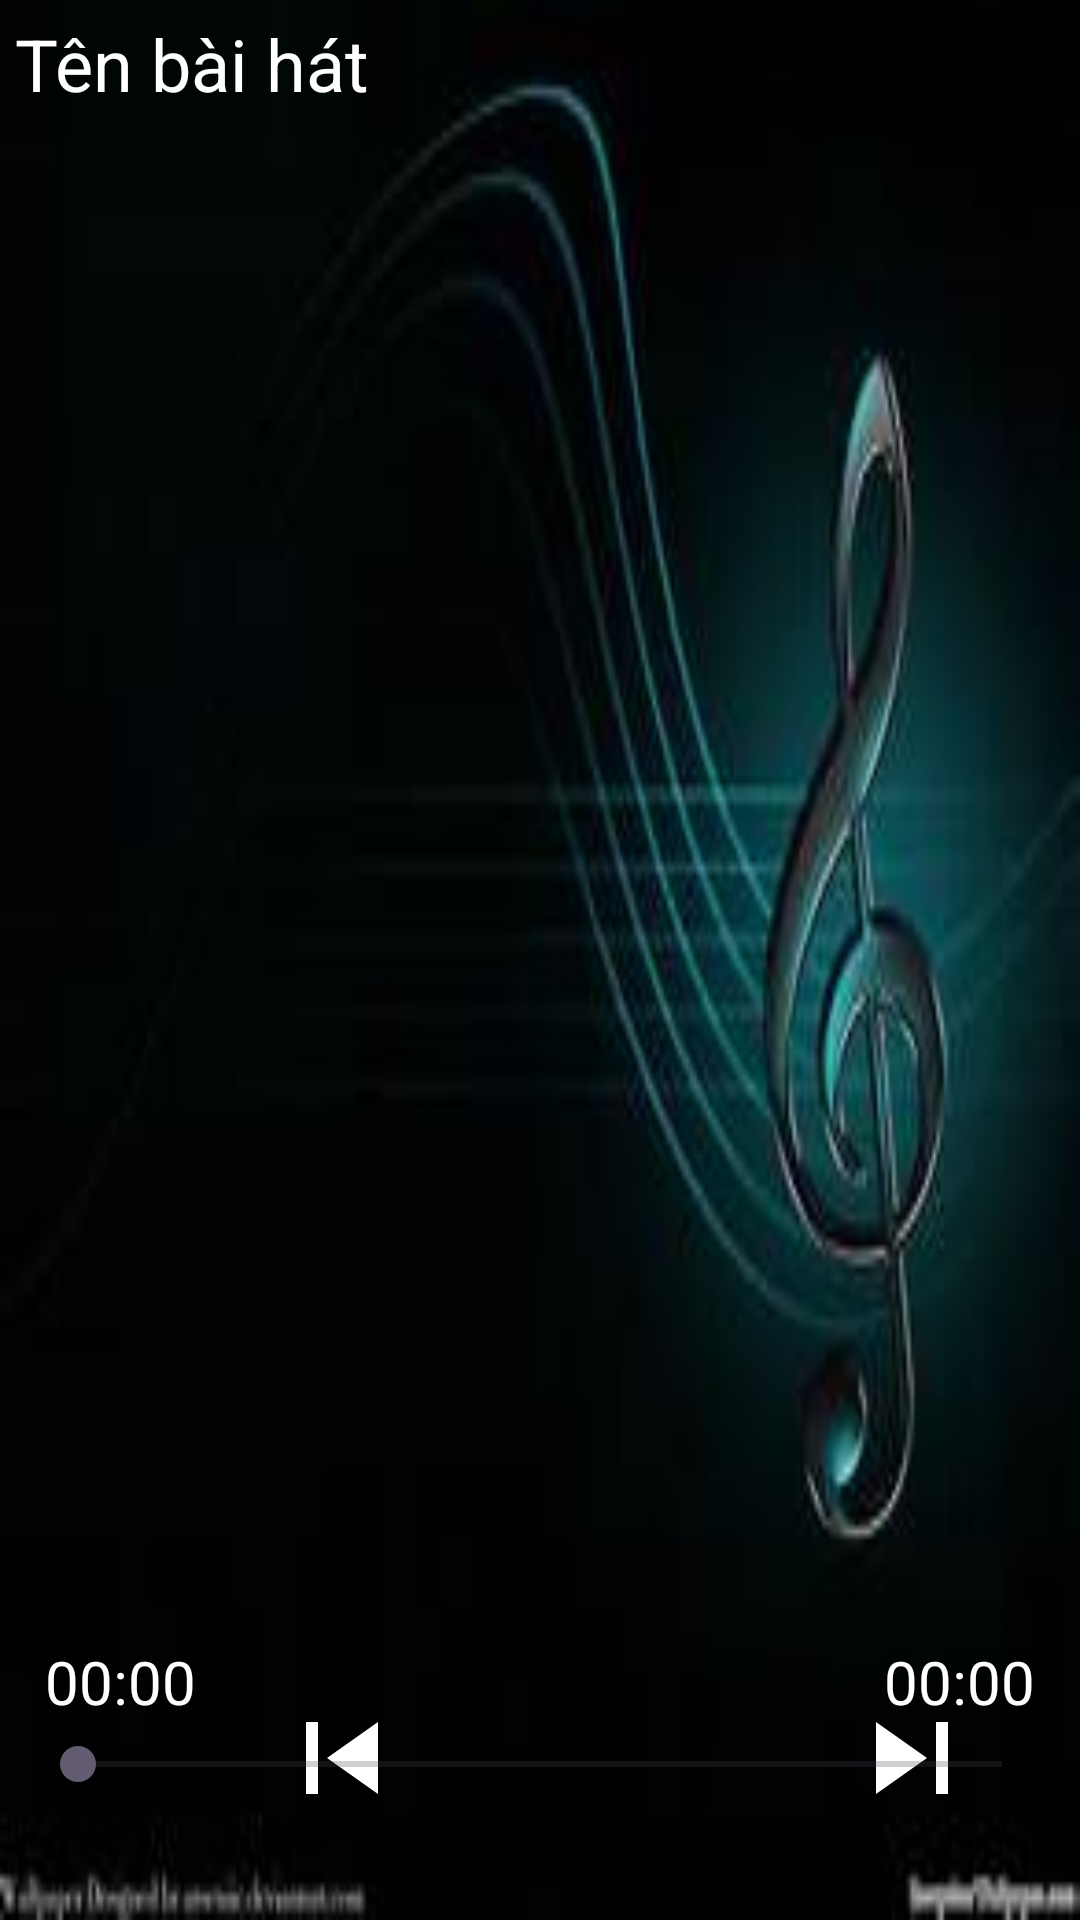

Icon bounding boxes for this 1080px×1920px phone screenshot, format {"left": x1, "top": y1, "right": x2, "bottom": y2}:
skip next: {"left": 876, "top": 1698, "right": 963, "bottom": 1794}
skip previous: {"left": 306, "top": 1722, "right": 378, "bottom": 1794}
